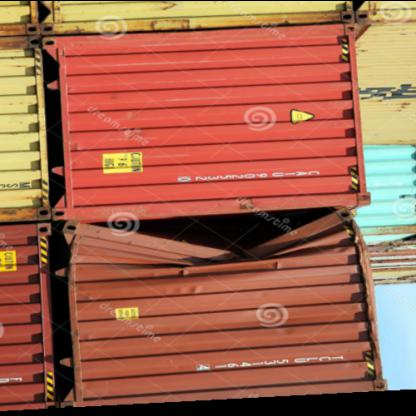Damage: (92, 194, 362, 265)
